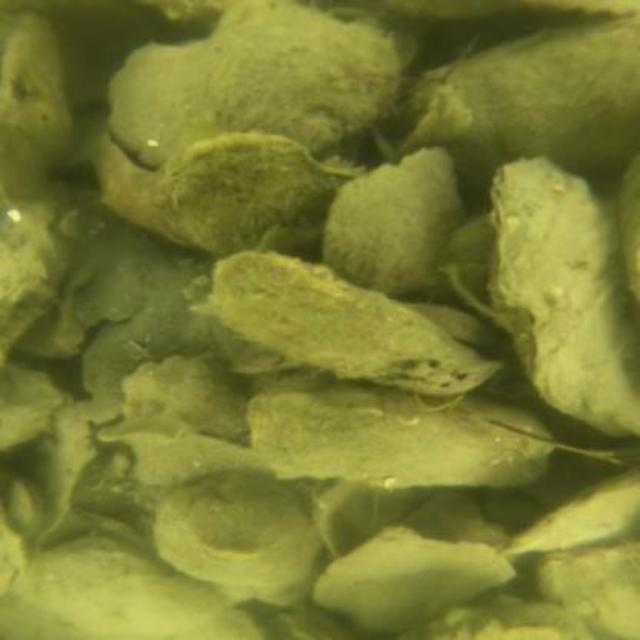Oyster-Closed: (105, 0, 402, 164), (484, 149, 640, 444), (207, 249, 503, 400), (409, 12, 638, 194), (244, 388, 561, 489), (6, 534, 272, 640), (144, 135, 373, 257), (304, 520, 518, 638), (96, 352, 274, 489), (152, 471, 319, 612), (318, 141, 464, 295), (0, 12, 79, 214), (500, 466, 638, 559), (0, 360, 68, 455), (7, 472, 46, 542)
